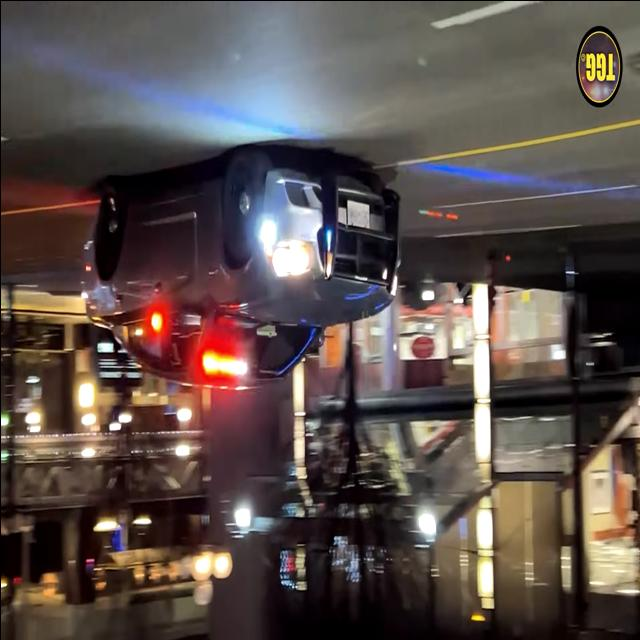emergency-vehicles: (64, 153, 422, 401)
